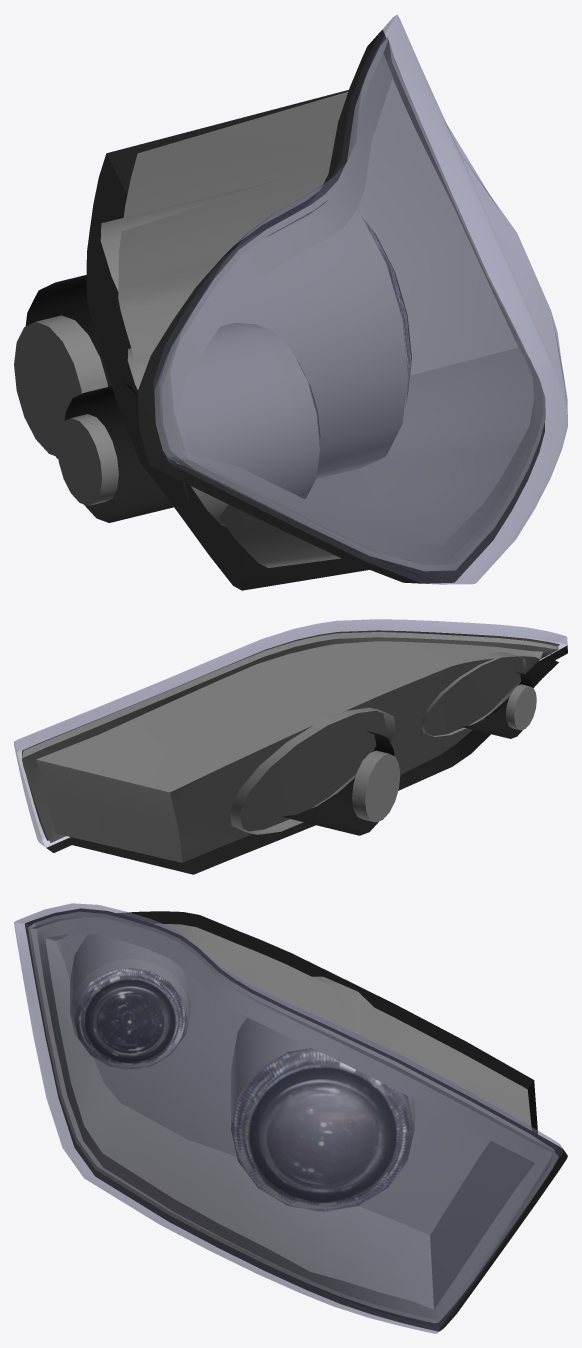
The picture shows the model from 3 angles, top to bottom: view 1: azimuth 30°, elevation 25°; view 2: azimuth 150°, elevation 25°; view 3: azimuth 270°, elevation 25°; orthographic projection. The views are drawn at different scales.
Visible parts, largest first — view 1: Y653_061B_R_Y653_061B_R_3_DaS, Y653_061B_R_Y653_061B_R_5_DTaSI, Y653_061B_R_Y653_061B_R_4_D, Y653_061B_R_1_N_Y653_061B_R; view 2: Y653_061B_R_Y653_061B_R_3_DaS, Y653_061B_R_Y653_061B_R_4_D, Y653_061B_R_Y653_061B_R_5_DTaSI; view 3: Y653_061B_R_Y653_061B_R_5_DTaSI, Y653_061B_R_Y653_061B_R_3_DaS, Y653_061B_R_1_N_Y653_061B_R, Y653_061B_R_Y653_061B_R_4_D, Y653_061B_R_Y653_061B_R_2_N.
Part boxes in pixels (x1=…): Y653_061B_R_Y653_061B_R_3_DaS: x1=14, y1=37, x2=545, y2=571; Y653_061B_R_Y653_061B_R_5_DTaSI: x1=153, y1=14, x2=567, y2=584; Y653_061B_R_Y653_061B_R_4_D: x1=25, y1=30, x2=544, y2=590; Y653_061B_R_1_N_Y653_061B_R: x1=362, y1=217, x2=411, y2=421; Y653_061B_R_Y653_061B_R_3_DaS: x1=22, y1=630, x2=559, y2=862; Y653_061B_R_Y653_061B_R_4_D: x1=46, y1=645, x2=567, y2=874; Y653_061B_R_Y653_061B_R_5_DTaSI: x1=14, y1=619, x2=567, y2=847; Y653_061B_R_Y653_061B_R_5_DTaSI: x1=14, y1=903, x2=563, y2=1333; Y653_061B_R_Y653_061B_R_3_DaS: x1=28, y1=911, x2=558, y2=1323; Y653_061B_R_1_N_Y653_061B_R: x1=231, y1=1048, x2=414, y2=1211; Y653_061B_R_Y653_061B_R_4_D: x1=25, y1=908, x2=567, y2=1331; Y653_061B_R_Y653_061B_R_2_N: x1=74, y1=967, x2=186, y2=1069.
Size of the model in its own units: 41.37 by 22.94 by 44.68.
